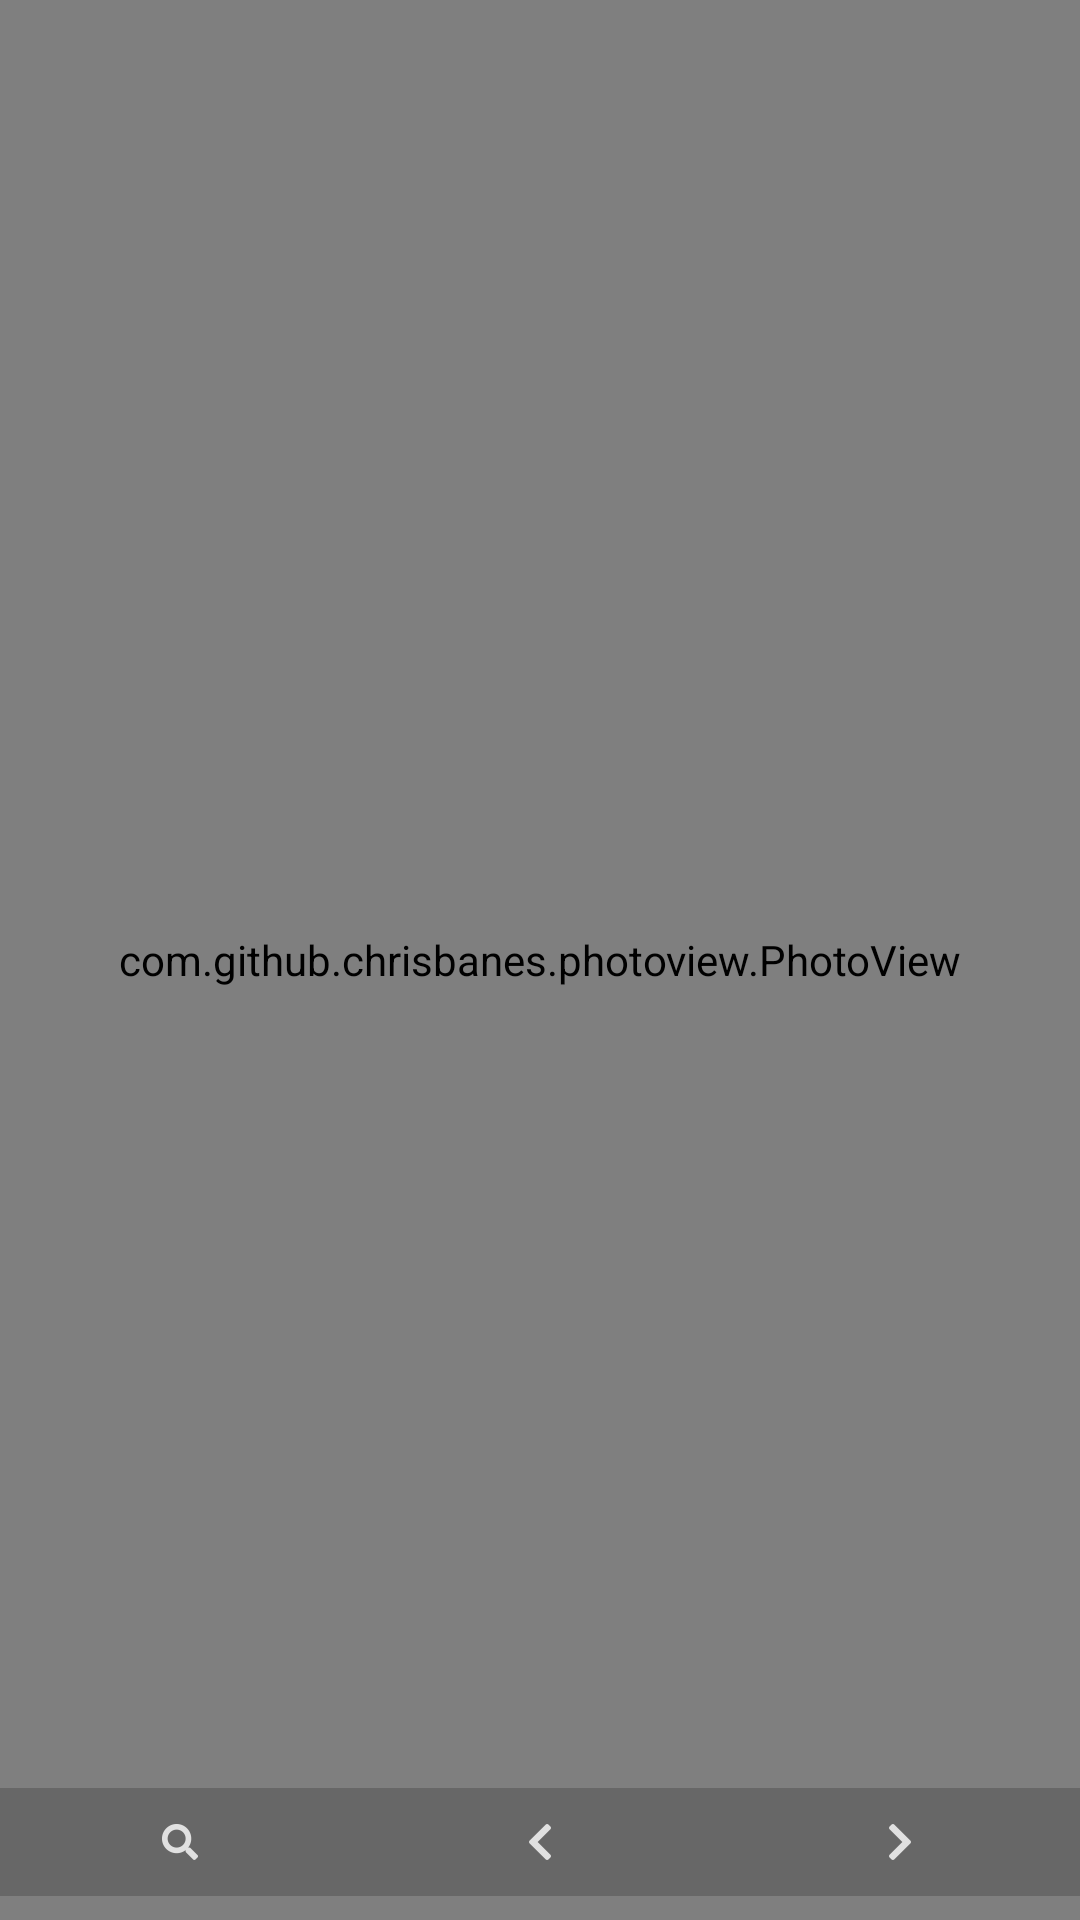

Screen size 1080*1920. Icon name, then its center in pixels as (x=x, y=y):
left: (x=540, y=1842)
right: (x=900, y=1842)
zoom: (x=180, y=1842)
